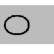no answer: (3, 13, 36, 38)
